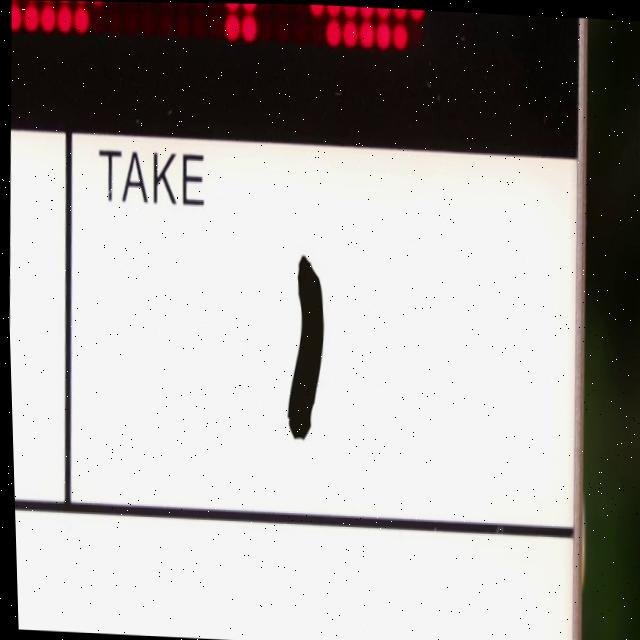Clapperboard: (0, 0, 605, 640)
